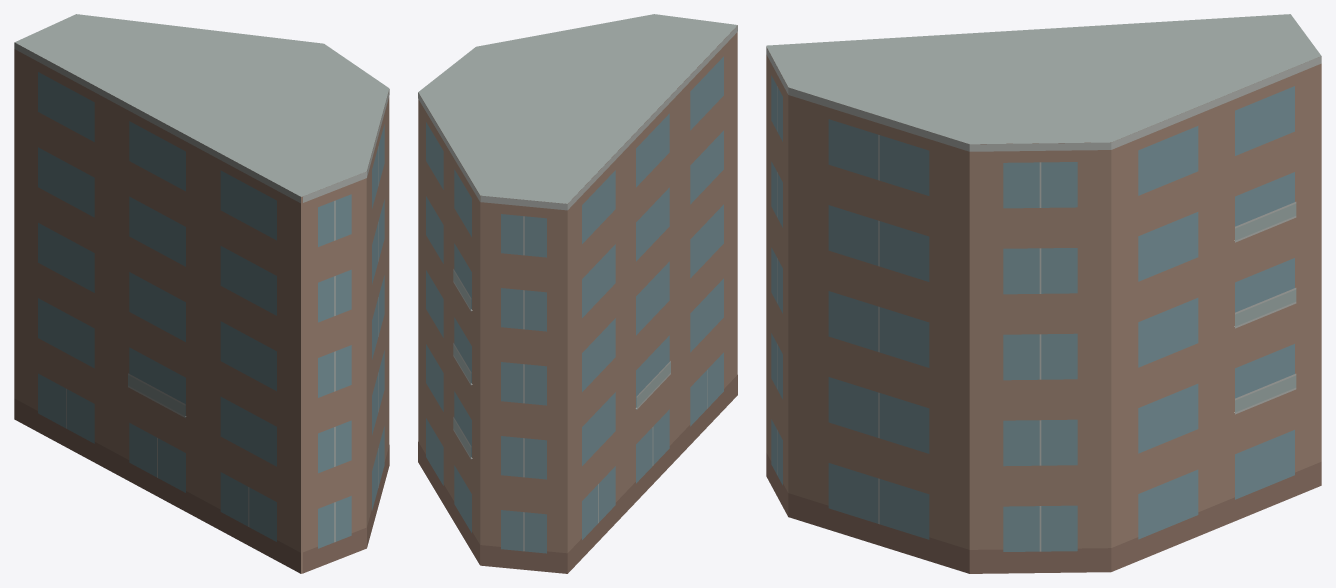
The model's file is survey-upis-32523540.glb.
3 renders of one model, left to right at view 1: azimuth 30°, elevation 25°; view 2: azimuth 150°, elevation 25°; view 3: azimuth 270°, elevation 25°, orthographic. The views are drawn at different scales.
Visible parts, largest first — view 1: survey-upis-32523540.tmp; view 2: survey-upis-32523540.tmp; view 3: survey-upis-32523540.tmp.
Boxes of the visible parts, bbox=[...] form: survey-upis-32523540.tmp: bbox=[14, 14, 389, 573]; survey-upis-32523540.tmp: bbox=[418, 14, 737, 573]; survey-upis-32523540.tmp: bbox=[766, 14, 1321, 573].
Size of the model in its own units: 9.05 by 13.9 by 16.29.
